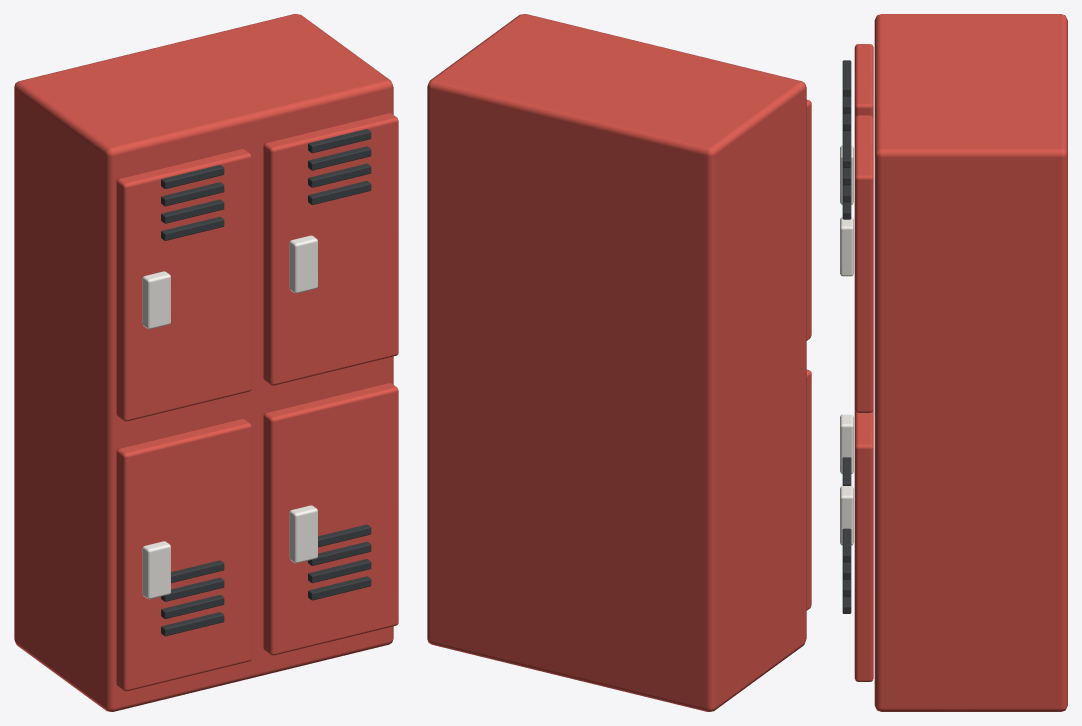
File: school-locker.glb
3 renders of one model, left to right at view 1: azimuth 30°, elevation 25°; view 2: azimuth 150°, elevation 25°; view 3: azimuth 270°, elevation 25°, orthographic.
Parts seen in each view (by area): view 1: body, door-1-0, door-1-1, door-0-0, door-0-1, lock-0-1, lock-1-0, lock-0-0, lock-1-1, vent-0-0-2, vent-0-0-1, vent-0-1-3 (+13 smaller); view 2: body, door-0-0, door-1-0; view 3: body, door-0-1, door-1-1, door-0-0, lock-0-1, lock-1-0, lock-1-1.
Part boxes in pixels (bbox=[...]): body: bbox=[14, 14, 393, 711]; door-1-0: bbox=[116, 419, 251, 691]; door-1-1: bbox=[263, 383, 398, 655]; door-0-0: bbox=[116, 149, 251, 421]; door-0-1: bbox=[263, 113, 398, 385]; lock-0-1: bbox=[289, 235, 317, 293]; lock-1-0: bbox=[142, 541, 170, 599]; lock-0-0: bbox=[142, 271, 170, 329]; lock-1-1: bbox=[289, 505, 317, 563]; vent-0-0-2: bbox=[161, 182, 224, 206]; vent-0-0-1: bbox=[161, 199, 224, 223]; vent-0-1-3: bbox=[308, 129, 371, 153]; body: bbox=[427, 14, 806, 711]; door-0-0: bbox=[806, 100, 811, 340]; door-1-0: bbox=[806, 369, 811, 610]; body: bbox=[874, 14, 1067, 711]; door-0-1: bbox=[854, 115, 873, 412]; door-1-1: bbox=[854, 410, 873, 681]; door-0-0: bbox=[854, 44, 873, 118]; lock-0-1: bbox=[840, 217, 853, 276]; lock-1-0: bbox=[840, 414, 853, 473]; lock-1-1: bbox=[840, 486, 853, 545].
Size of the model in its own units: 0.96 by 1.8 by 0.66.
